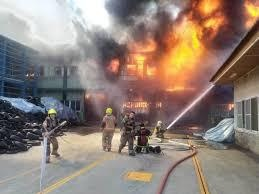fire: (124, 0, 220, 90)
